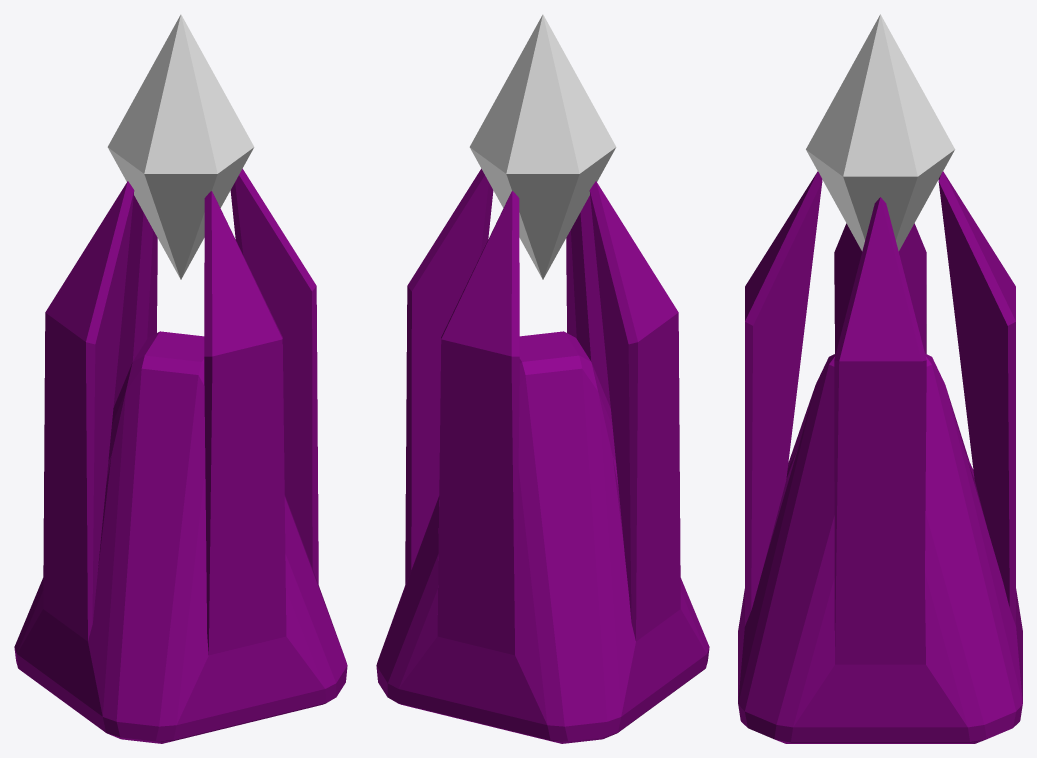
File: king.glb
3 renders of one model, left to right at view 1: azimuth 30°, elevation 25°; view 2: azimuth 150°, elevation 25°; view 3: azimuth 270°, elevation 25°, orthographic.
Visible parts, largest first — view 1: Cube, Cone.001; view 2: Cube, Cone.001; view 3: Cube, Cone.001.
Boxes of the visible parts, x1=… form: Cube: x1=14, y1=168, x2=347, y2=743; Cone.001: x1=107, y1=14, x2=254, y2=279; Cube: x1=376, y1=168, x2=709, y2=743; Cone.001: x1=469, y1=14, x2=616, y2=279; Cube: x1=738, y1=171, x2=1022, y2=743; Cone.001: x1=806, y1=14, x2=954, y2=251.
Bounding box in the file's own units: 0.762 × 2 × 0.762.
